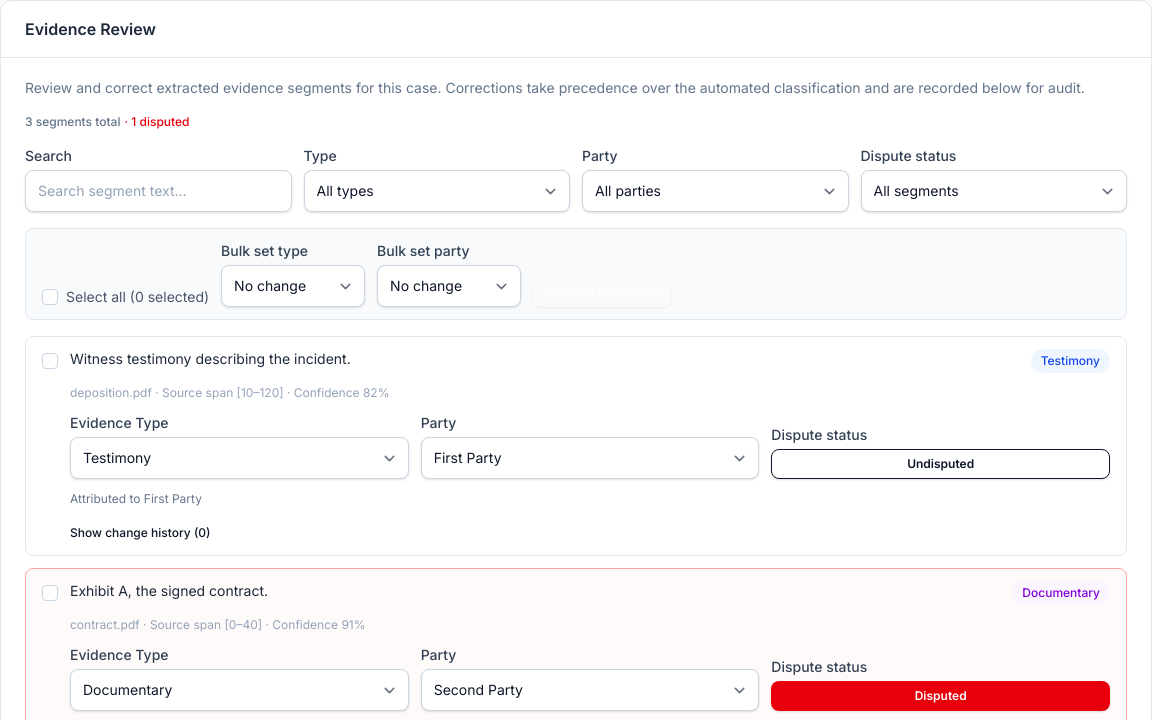
EvidenceReviewPanel › shows an inline error when a correction fails to save
Select "Other" in the dropdown labelled "Evidence Type" below "deposition.pdf" at (239, 458), box [70,437,409,479]
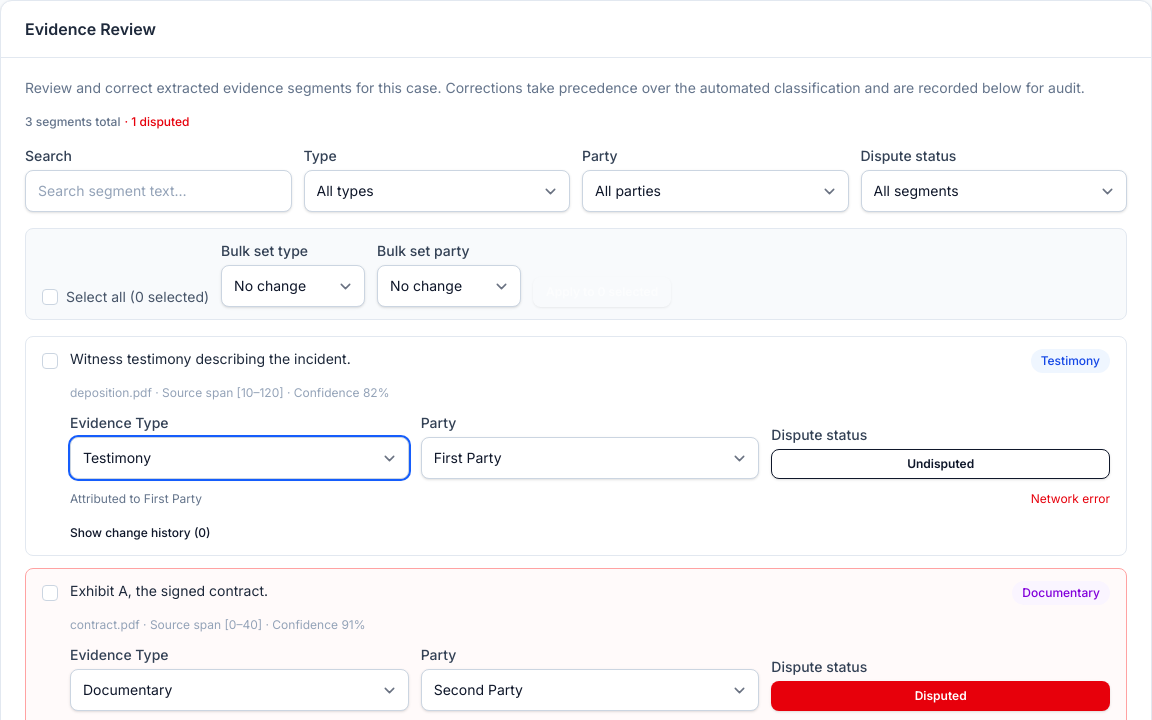
Expected: the message reads "Network error", [1031,491,1110,506]
